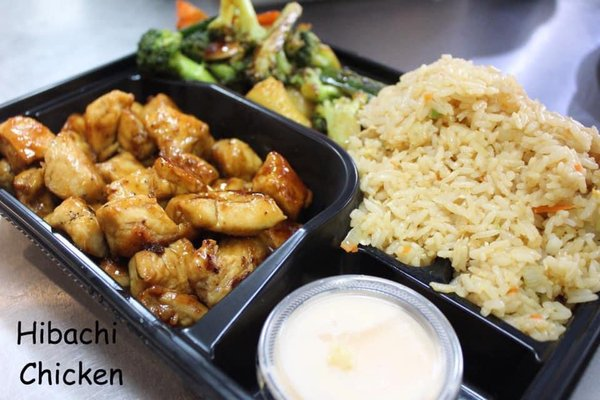sushi: (0, 50, 358, 393), (257, 273, 463, 395)
